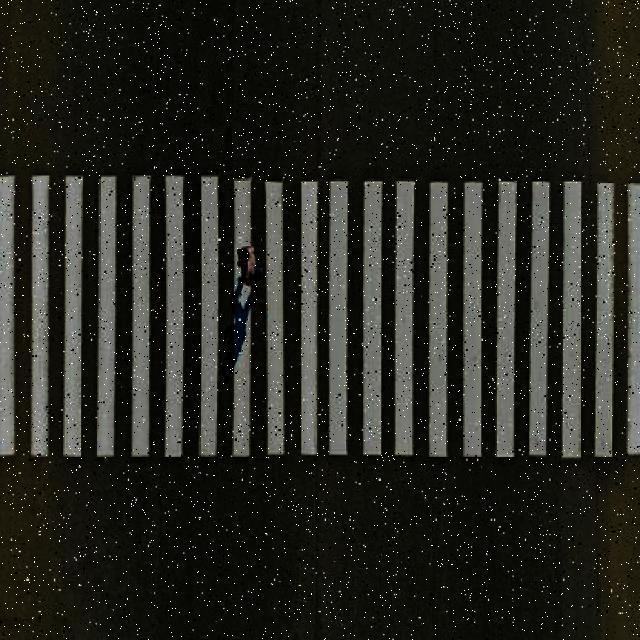Pedestrian crosswalk: (0, 164, 638, 475)
